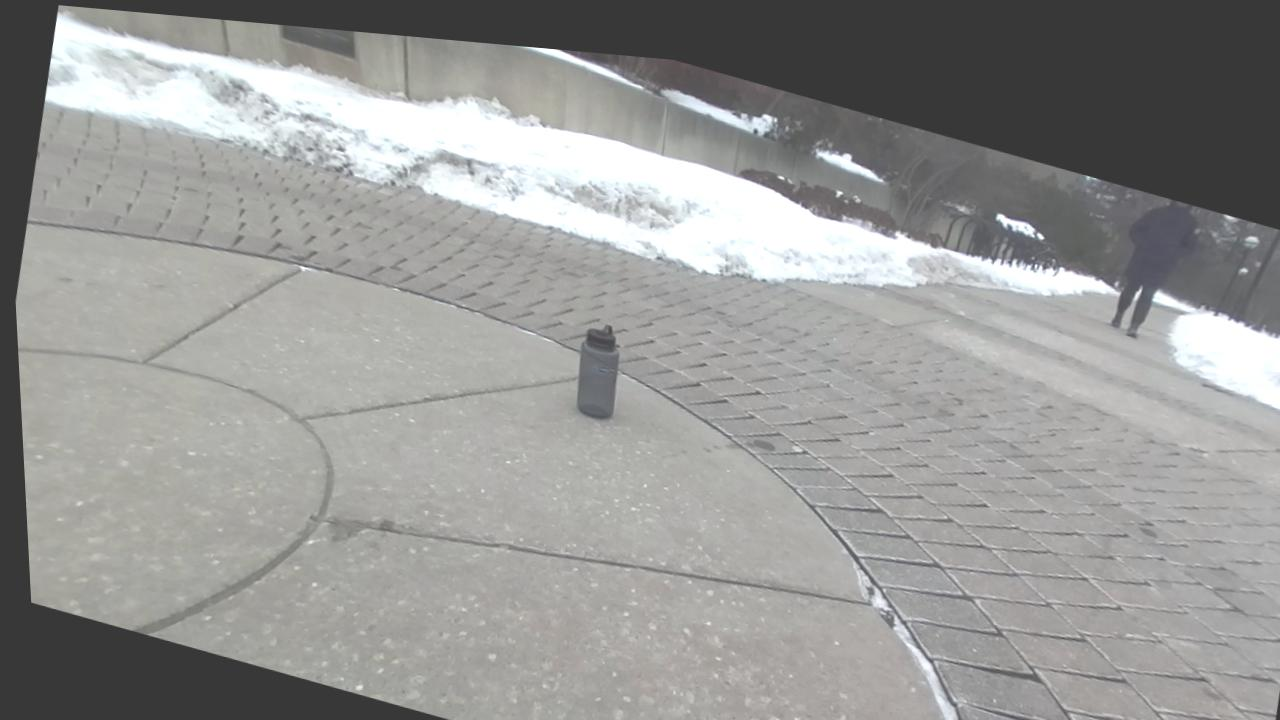bottle: (576, 324, 618, 417)
